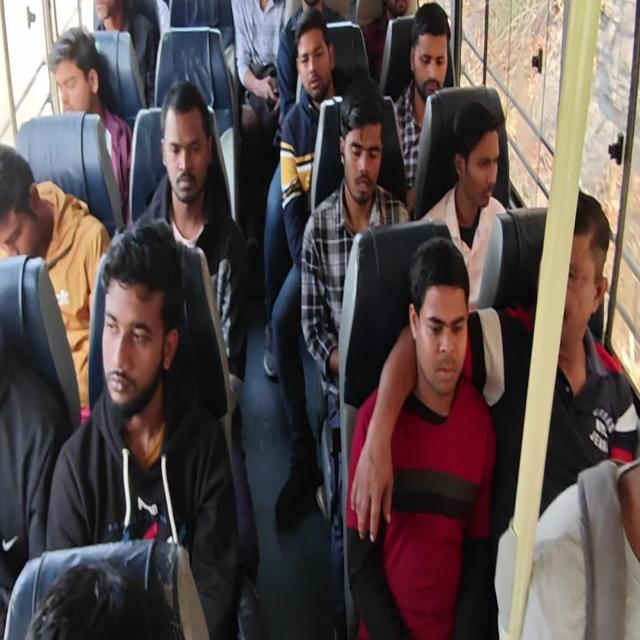person: (87, 226, 178, 422), (24, 549, 180, 640), (408, 228, 469, 406), (552, 195, 614, 354), (156, 75, 213, 206), (3, 125, 45, 262), (455, 103, 504, 216), (339, 88, 388, 198), (46, 26, 104, 114), (290, 10, 340, 96), (413, 5, 452, 91), (90, 0, 118, 28), (388, 1, 415, 14)
